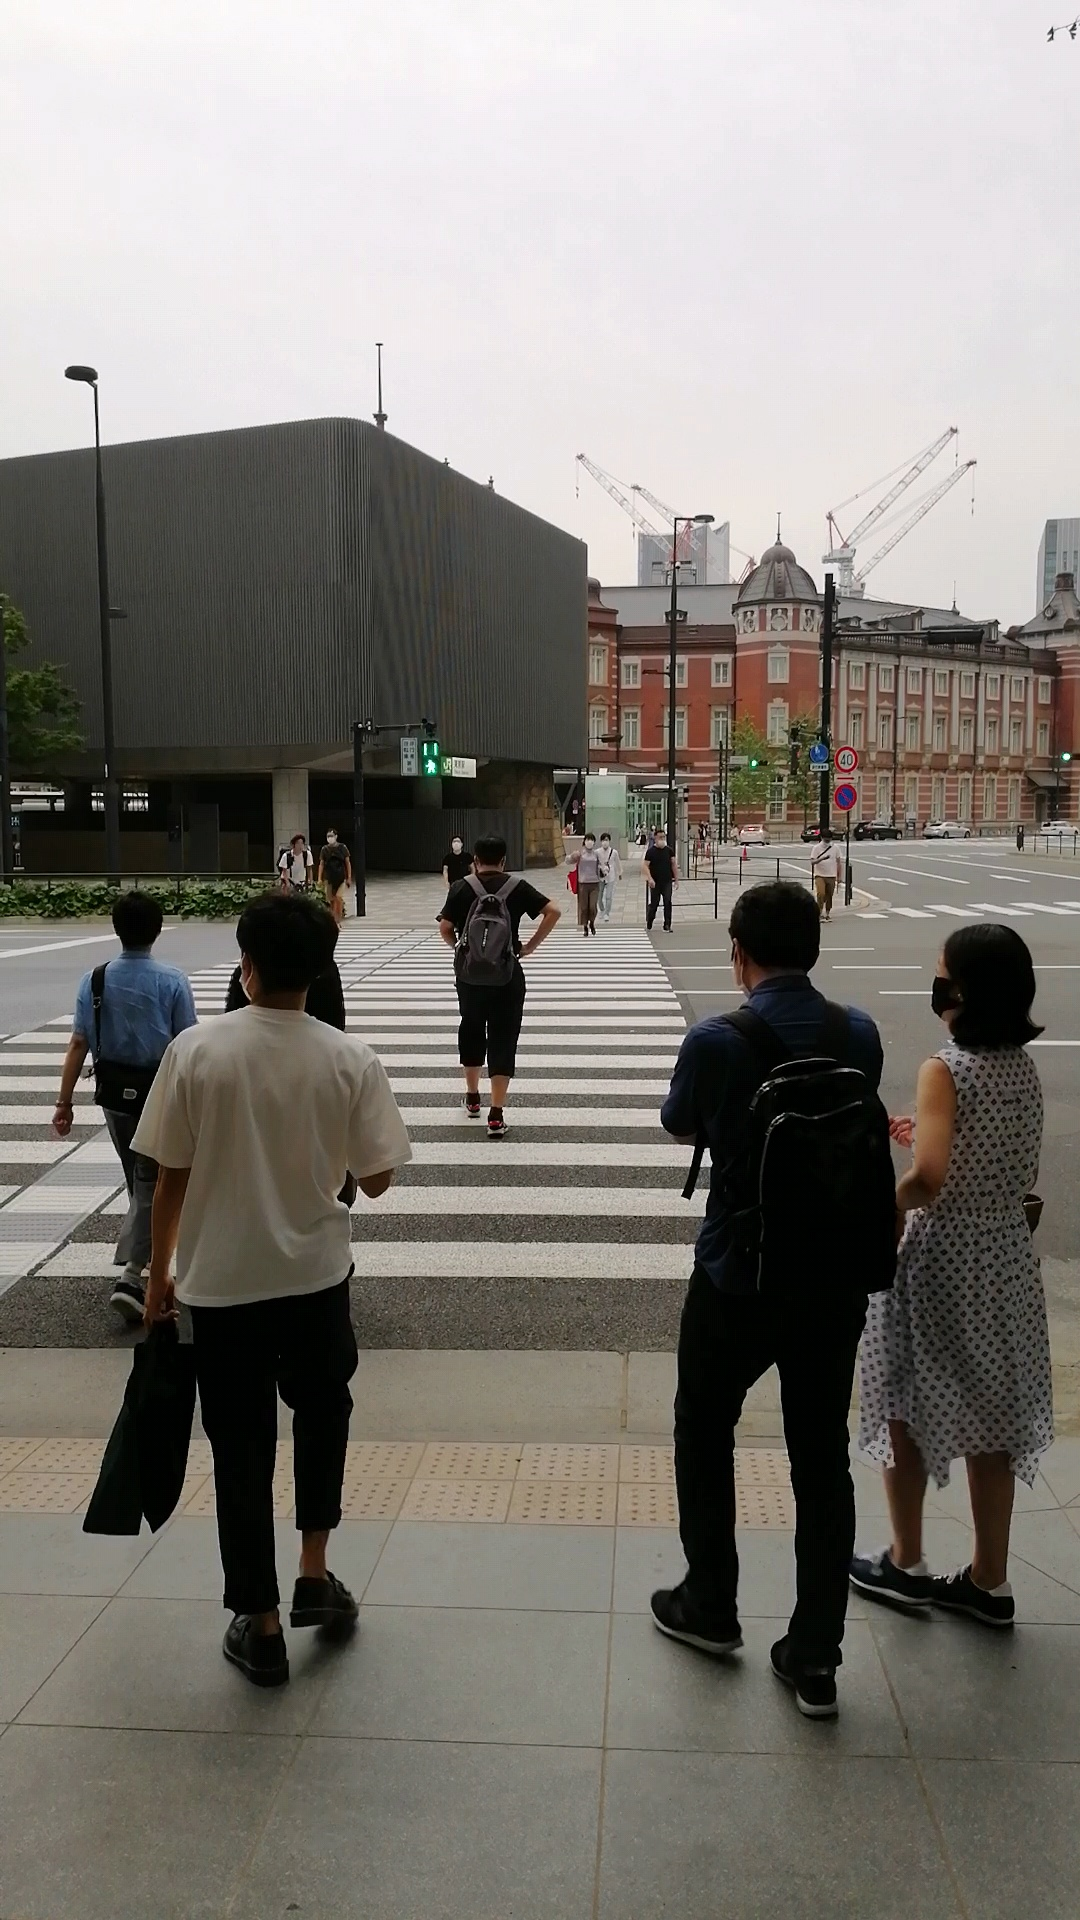green: (415, 736, 442, 781)
